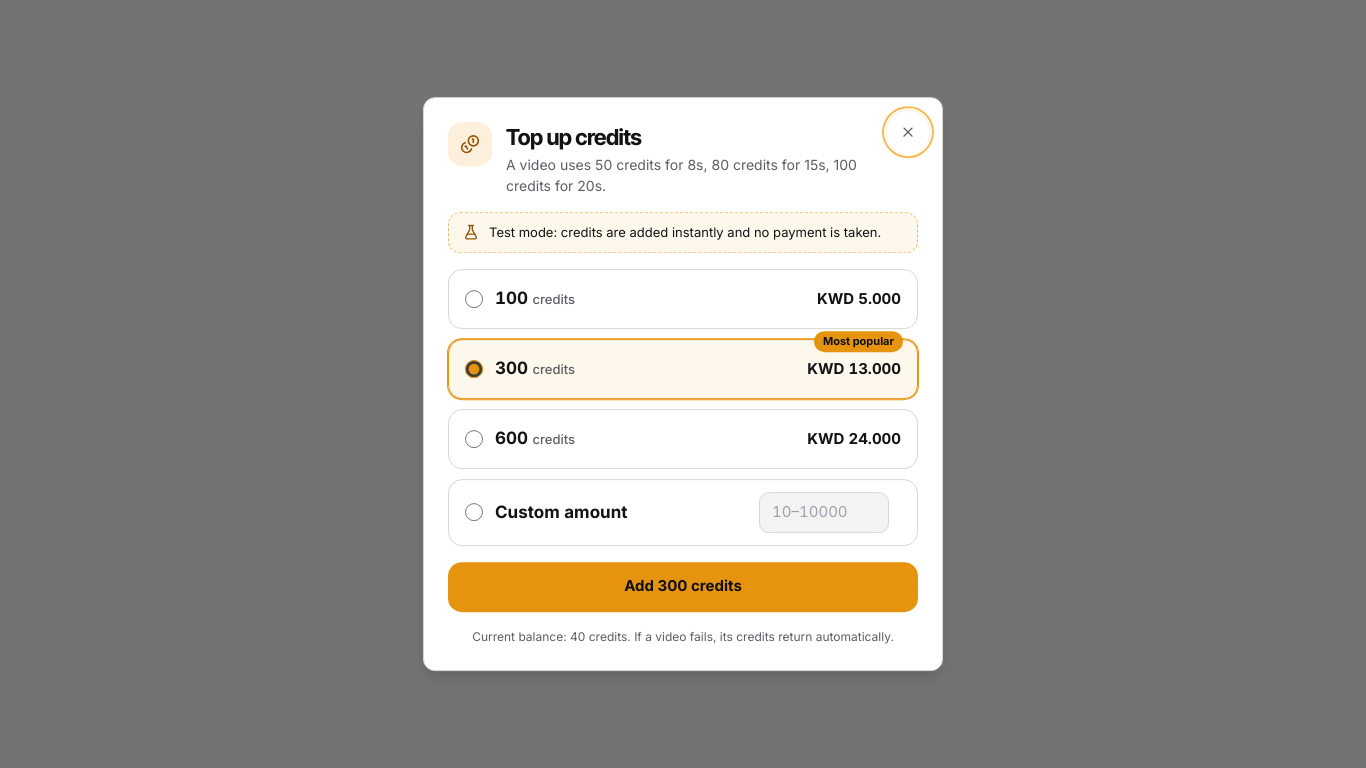
Test: TopUpDialog › adds credits and shows the confirmation
Click the button "Add 300 credits" at (683, 587), box [448,562,918,612]
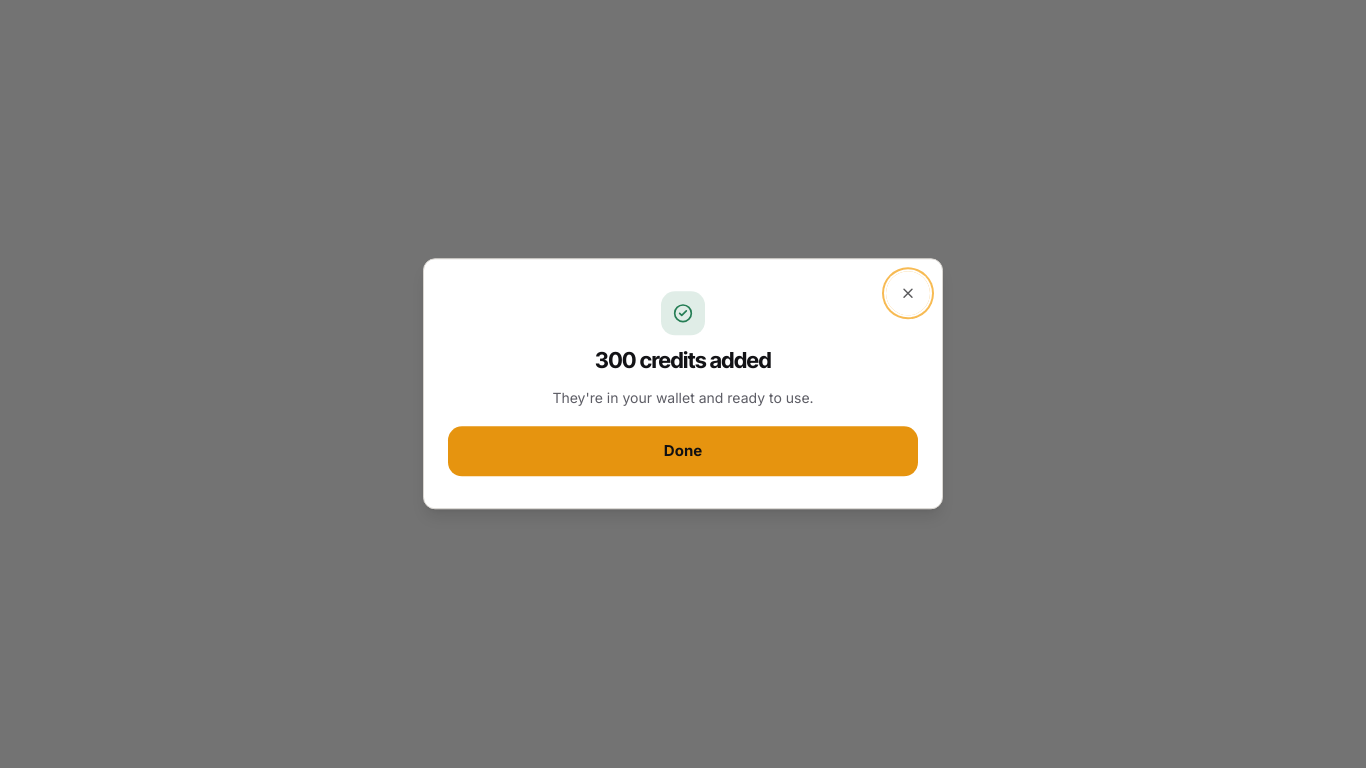
Now the heading "300 credits added" is shown, box [595,347,771,374]
